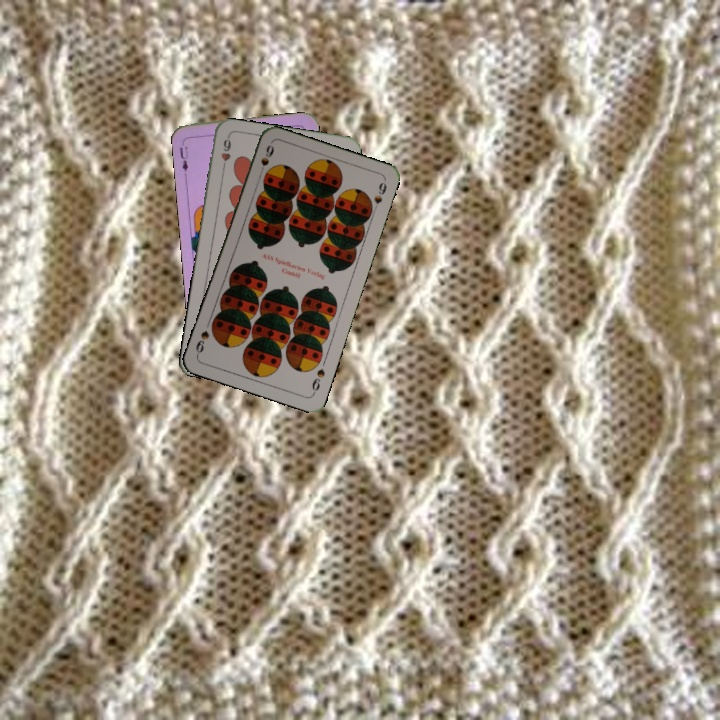EU: (176, 137, 191, 174)
H9: (217, 133, 234, 174)
S9: (308, 364, 328, 397), (257, 141, 276, 171)
